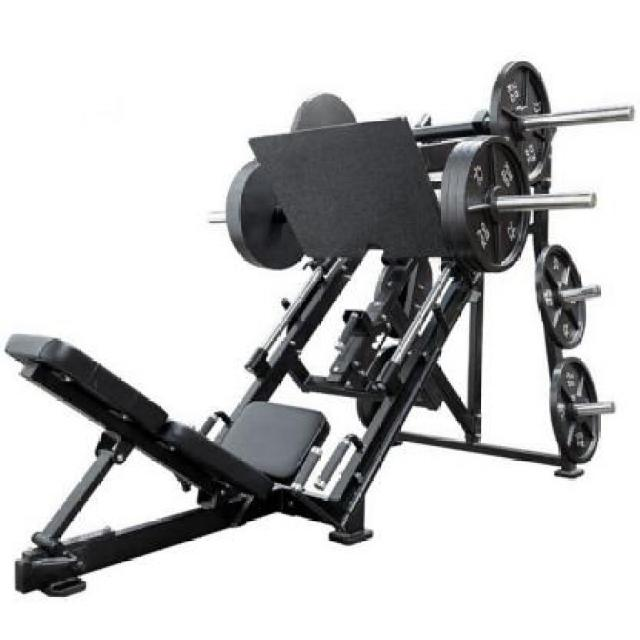leg press: (0, 44, 637, 640)
